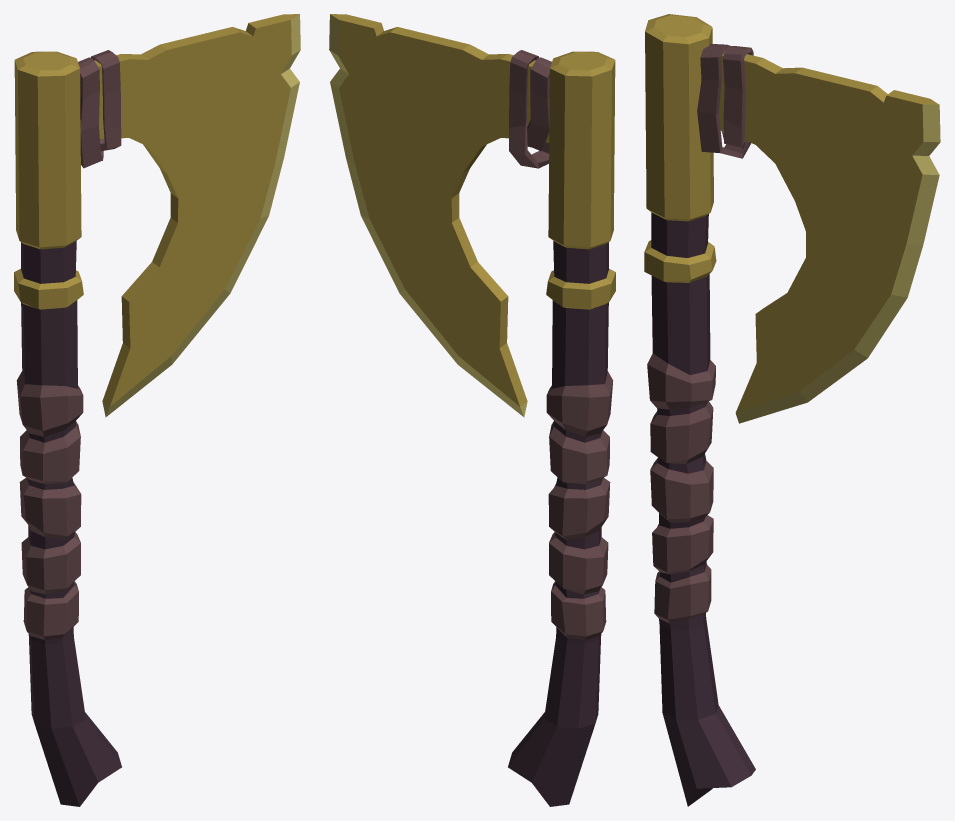
File: Axe_small_Golden.glb
3 views of the same model, side by side, from view 1: azimuth 30°, elevation 25°; view 2: azimuth 150°, elevation 25°; view 3: azimuth 330°, elevation 25° (orthographic). The views are drawn at different scales.
Visible parts, largest first — view 1: Axe_small_Golden_Cylinder.028; view 2: Axe_small_Golden_Cylinder.028; view 3: Axe_small_Golden_Cylinder.028.
Boxes of the visible parts, x1,y1,x2,y2 form: Axe_small_Golden_Cylinder.028: (14,14,300,806); Axe_small_Golden_Cylinder.028: (329,14,615,806); Axe_small_Golden_Cylinder.028: (644,14,940,806).
Size of the model in its own units: 0.6236 by 1.57 by 0.1322.
